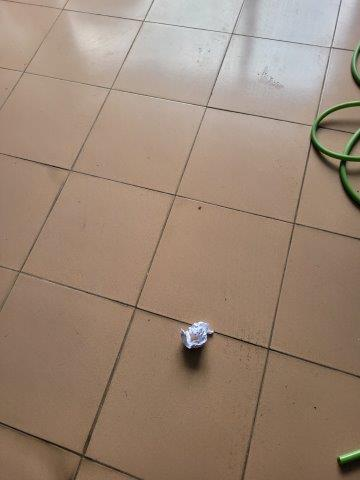kertas: (176, 320, 215, 352)
